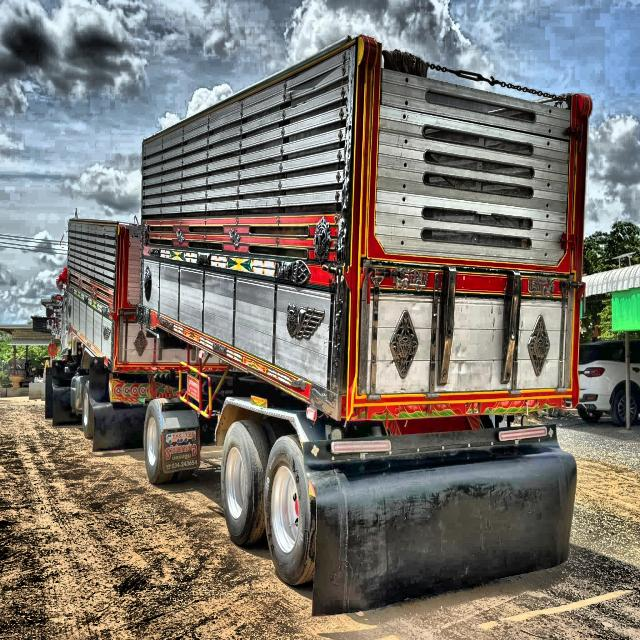trailer: (14, 32, 614, 604)
